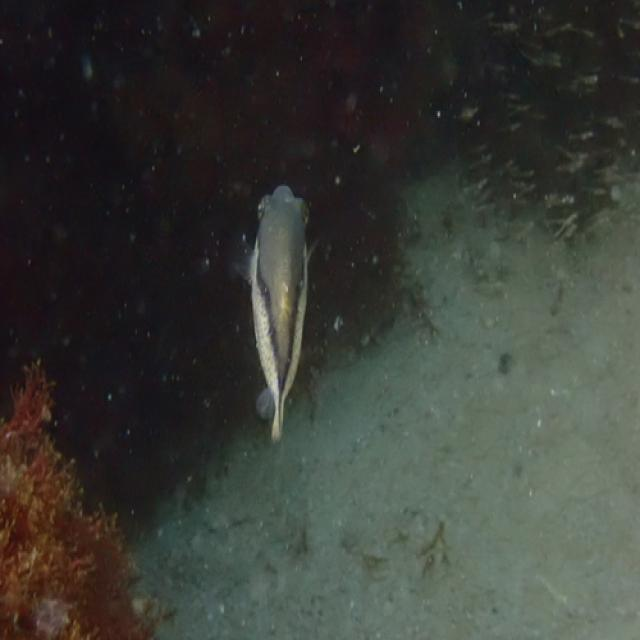Balik: (249, 187, 308, 440)
